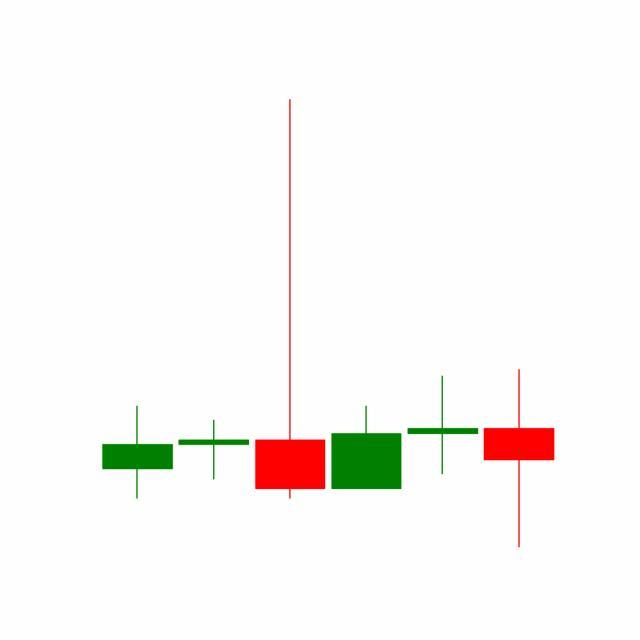Spinning Top: (404, 375, 482, 477)
